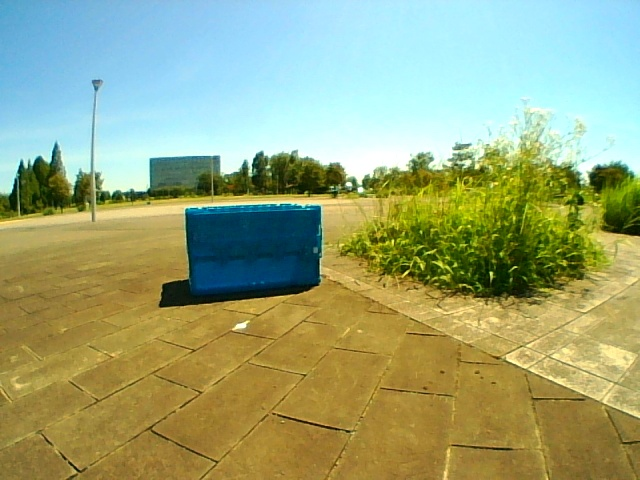blue_box: (187, 209, 317, 284)
